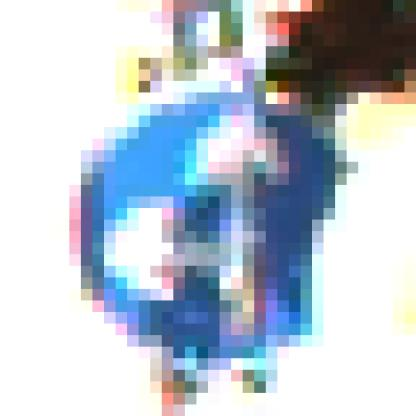Straight or Left: (71, 71, 360, 360)
